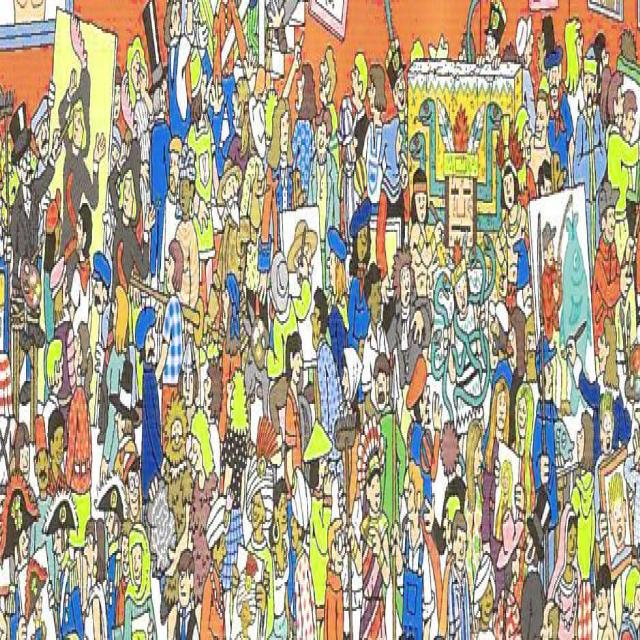waldo: (120, 447, 140, 518)
